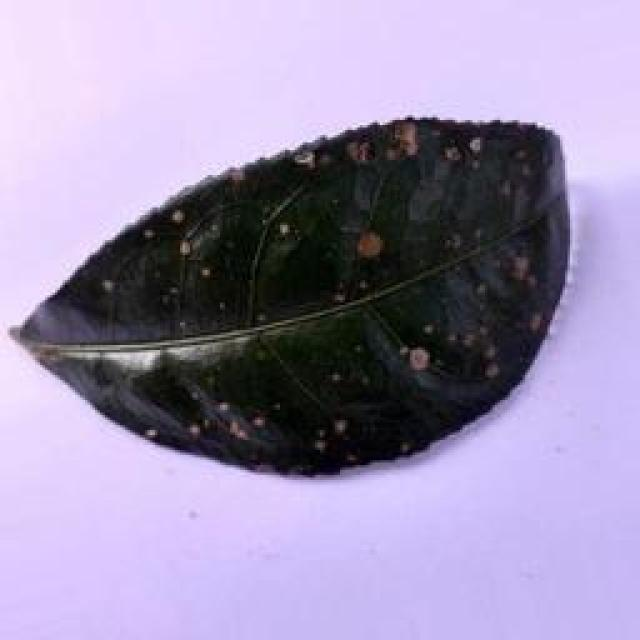Algal Leaf Spot: (8, 104, 632, 480)
